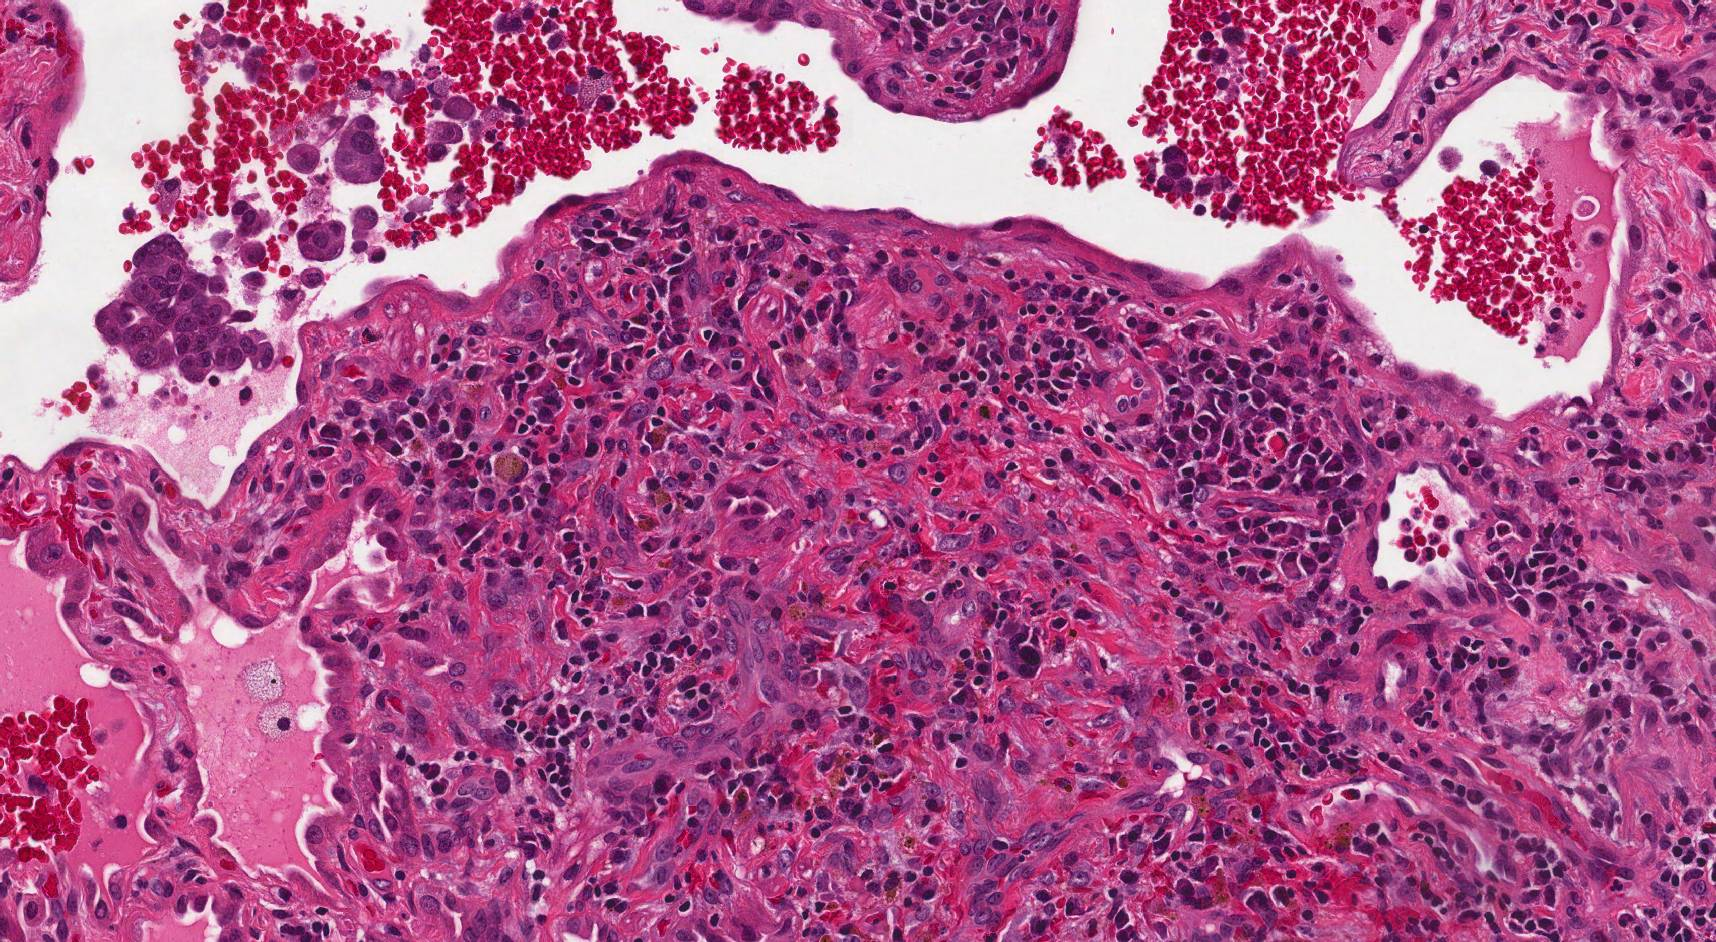stas: (95, 234, 274, 385), (334, 113, 383, 185), (297, 220, 345, 262)
